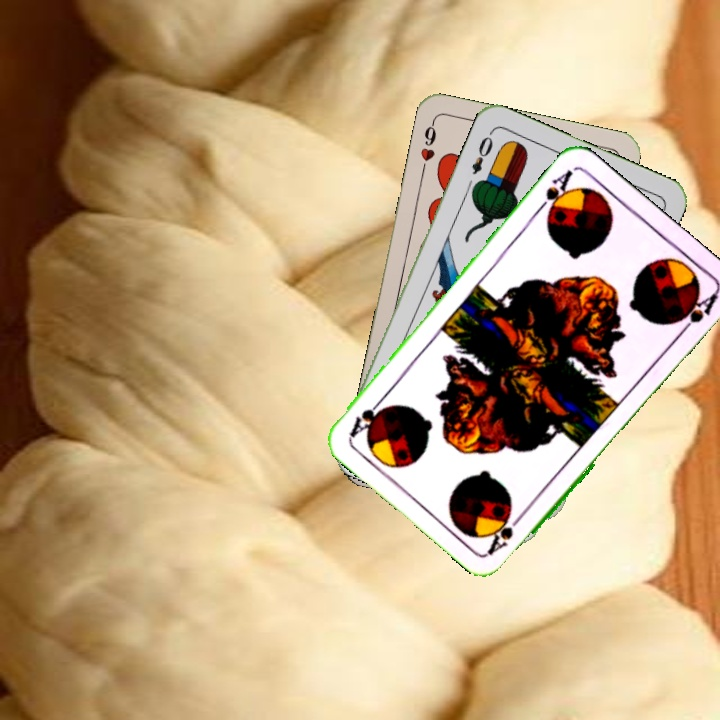EO: (467, 127, 496, 177)
H9: (416, 117, 439, 176)
SA: (532, 165, 576, 221), (484, 507, 529, 557)
